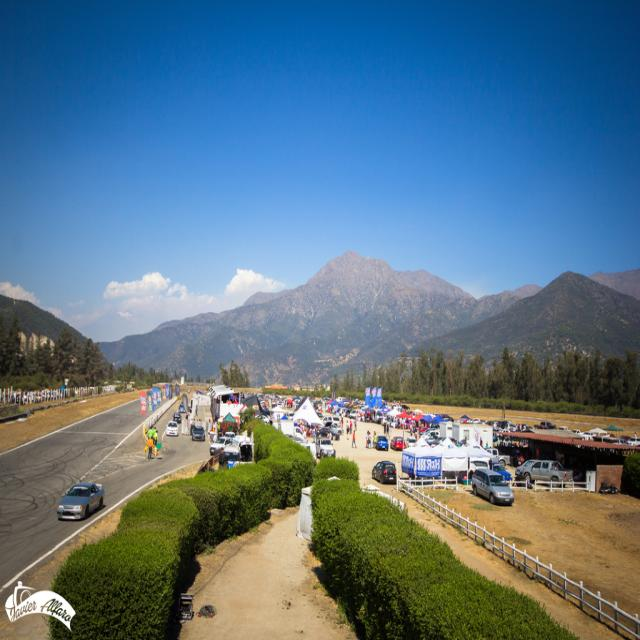car: (55, 480, 103, 525), (466, 465, 514, 510), (368, 459, 398, 488), (164, 421, 178, 440), (374, 435, 387, 452), (190, 427, 204, 441), (390, 436, 402, 449), (575, 430, 583, 437), (178, 404, 183, 412), (174, 412, 178, 418)
